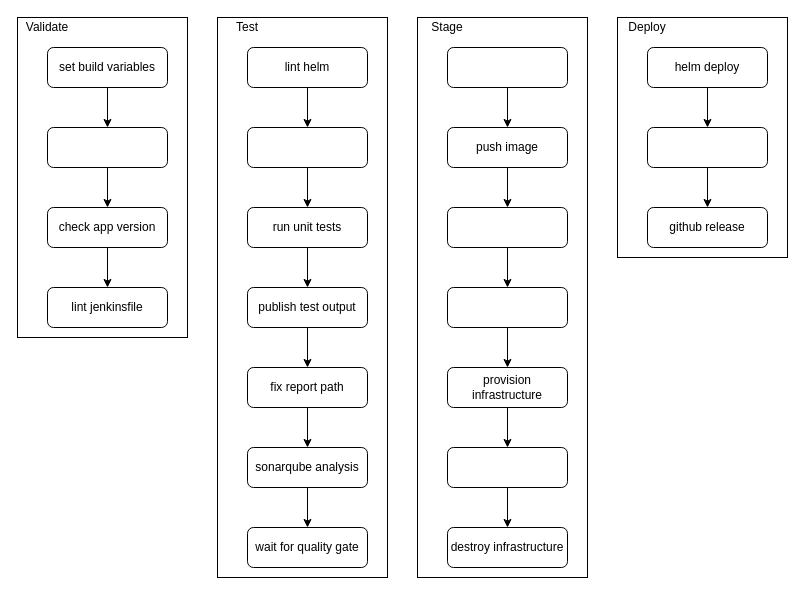
The diagram is 805 pixels wide and 595 high, and some of its shapes have lost their labels. Each missing label, with the centre of its shape:
"build image" belongs at (x=507, y=67).
"build test image" belongs at (x=307, y=147).
"check master or pr branch" belongs at (x=107, y=147).
"create pr namespace" belongs at (x=507, y=307).
"destroy pr namespace" belongs at (x=507, y=467).
"helm deploy from remote" belongs at (x=707, y=147).
"push helm" belongs at (x=507, y=227).
